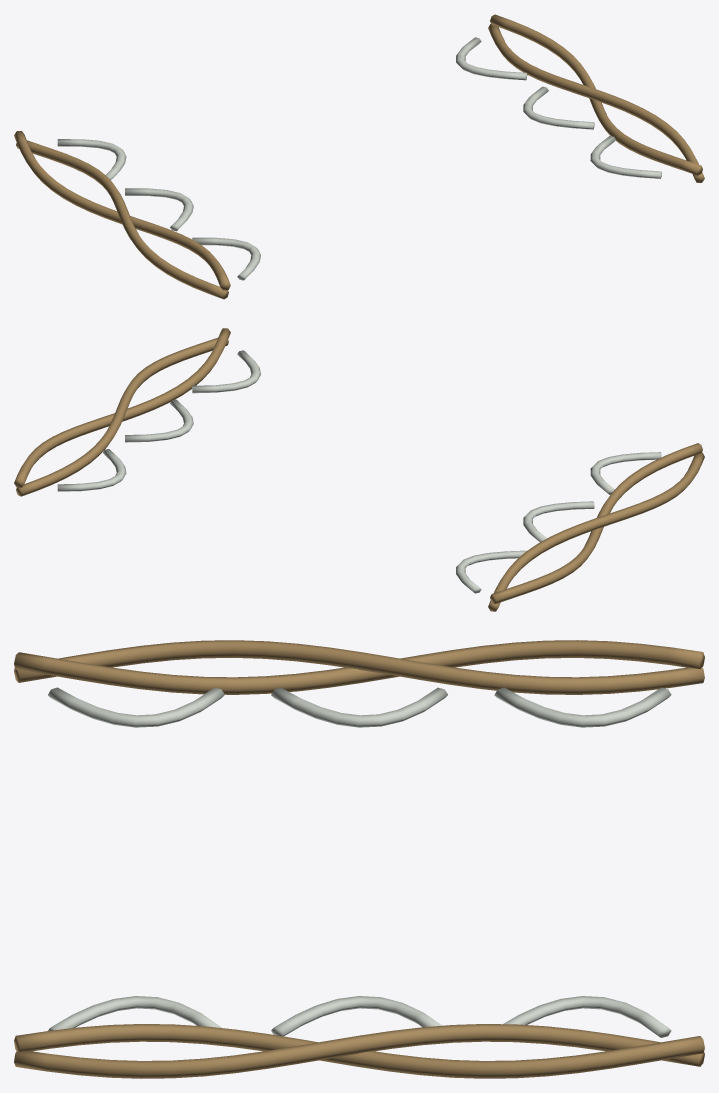
The model's file is tideweave-bridge-weave.glb.
3 views of the same model, one above another, from view 1: azimuth 30°, elevation 25°; view 2: azimuth 150°, elevation 25°; view 3: azimuth 270°, elevation 25° (orthographic). The views are drawn at different scales.
Parts seen in each view (by area): view 1: TideweaveBridgeWeave | Tideweave | aged brass, TideweaveBridgeWeave | Tideweave | porcelain; view 2: TideweaveBridgeWeave | Tideweave | aged brass, TideweaveBridgeWeave | Tideweave | porcelain; view 3: TideweaveBridgeWeave | Tideweave | aged brass, TideweaveBridgeWeave | Tideweave | porcelain.
Part boxes in pixels (x1,y1,x2,y2): TideweaveBridgeWeave | Tideweave | aged brass: [14, 14, 704, 299]; TideweaveBridgeWeave | Tideweave | porcelain: [57, 37, 661, 280]; TideweaveBridgeWeave | Tideweave | aged brass: [14, 328, 704, 611]; TideweaveBridgeWeave | Tideweave | porcelain: [57, 350, 661, 593]; TideweaveBridgeWeave | Tideweave | aged brass: [14, 640, 704, 1078]; TideweaveBridgeWeave | Tideweave | porcelain: [48, 687, 671, 1037].
Bounding box in the file's own units: 1.35 × 0.0416 × 0.9283.
